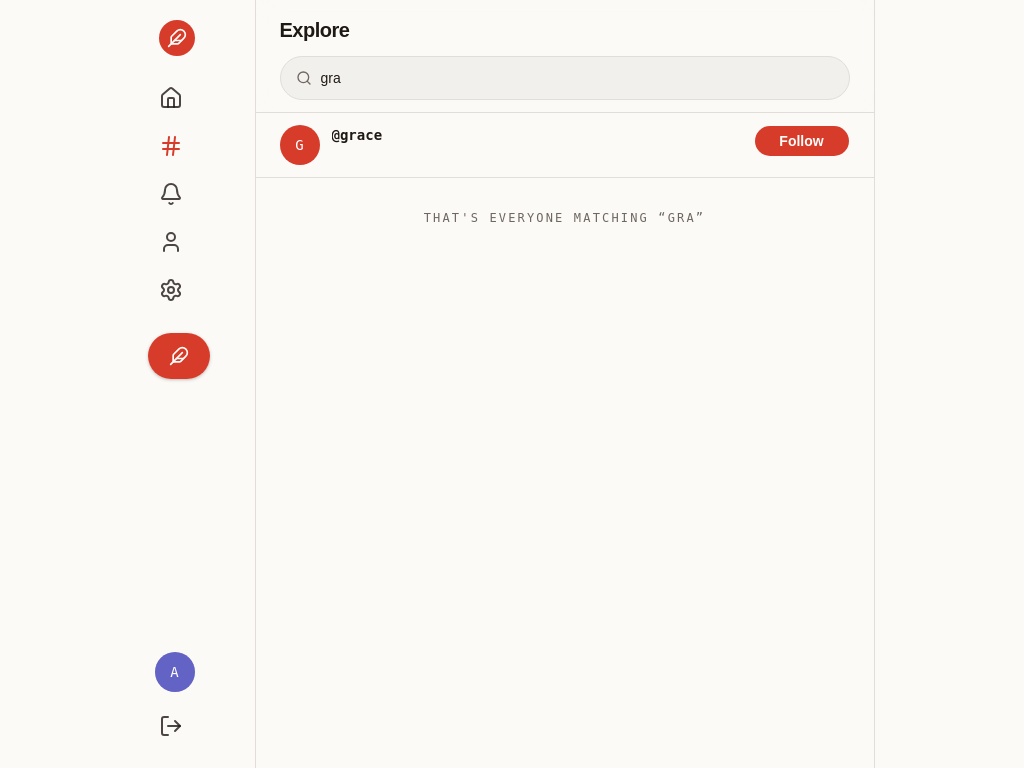
Explore › removes q from the URL when the input is cleared
This screenshot has width=1024, height=768.
Expected: the link "@grace" is shown, [332, 127, 382, 143]
Clear the search field named "Search users": (564, 78) [280, 56, 850, 100]
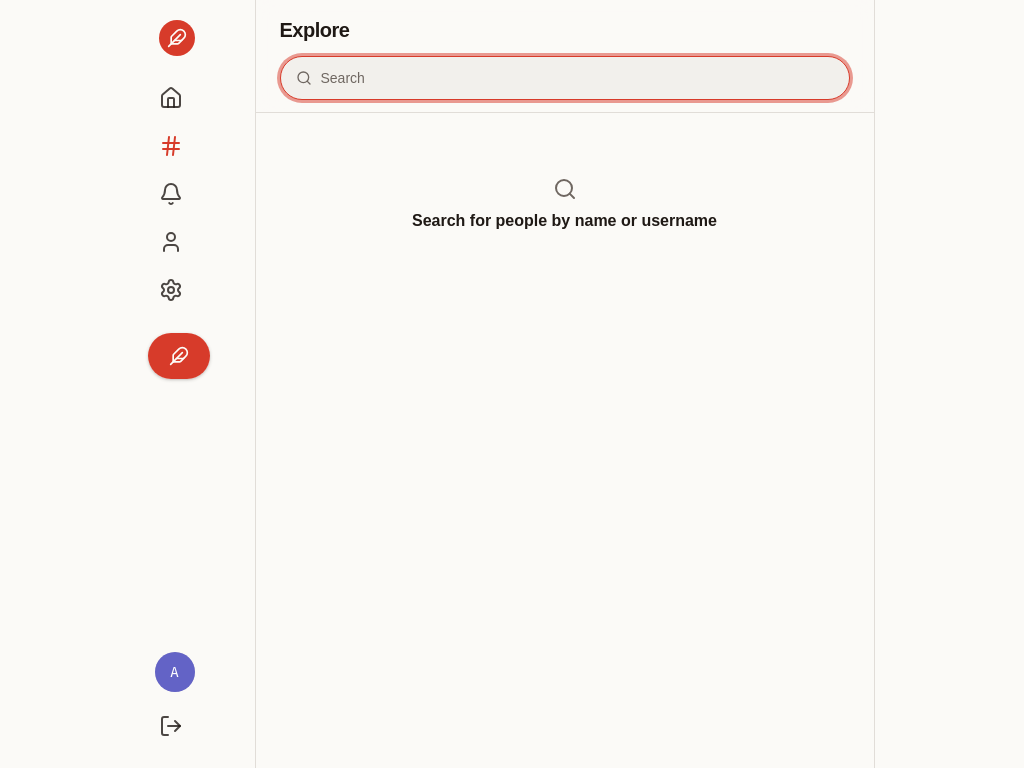
Expected: the text "Search for people by name or username" is shown, [412, 209, 717, 233]
